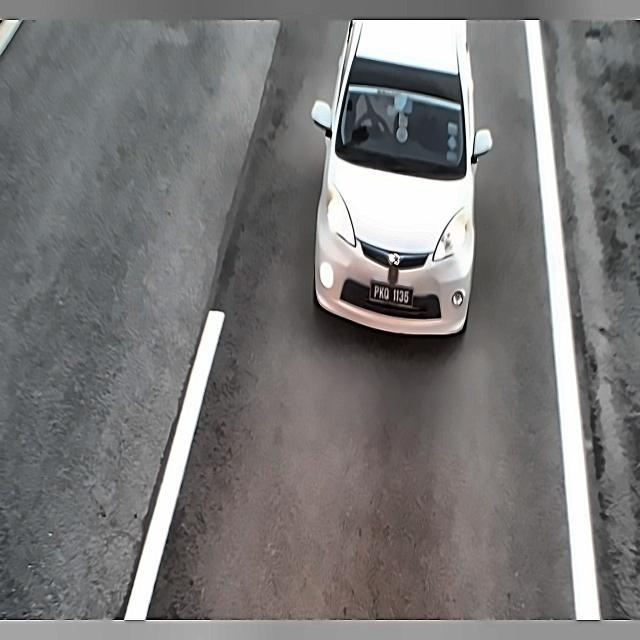car: (371, 276, 414, 315)
